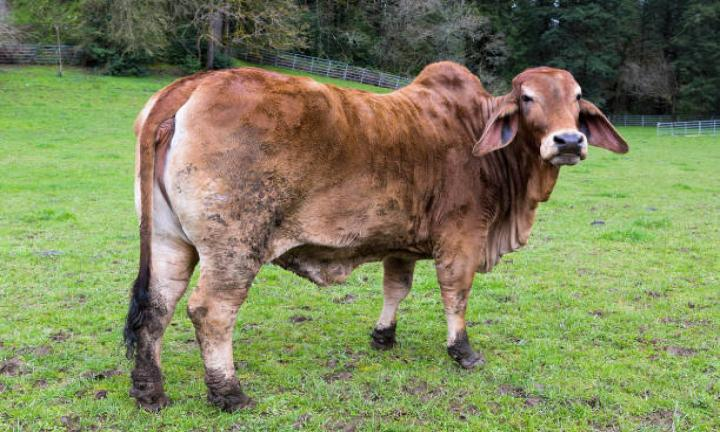Brahman: (125, 61, 627, 410)
